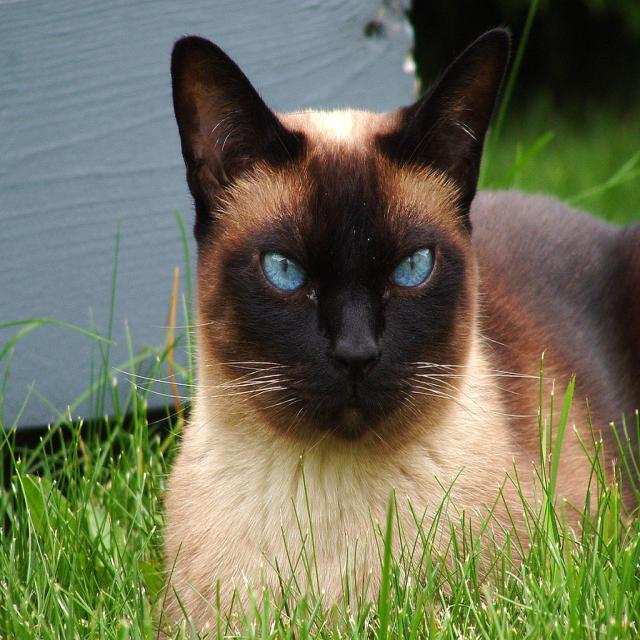cat: (142, 27, 640, 639)
